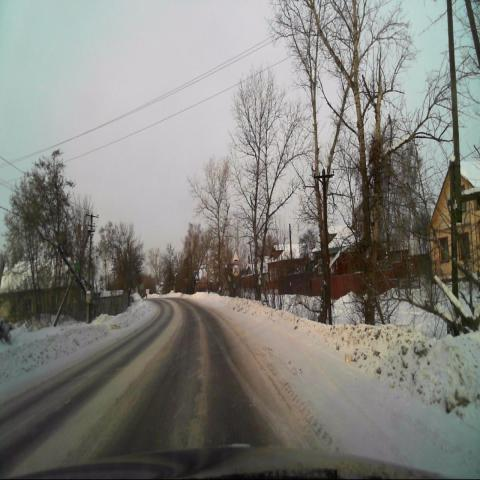1_17: (231, 250, 240, 265)
3_24: (232, 265, 240, 276)
